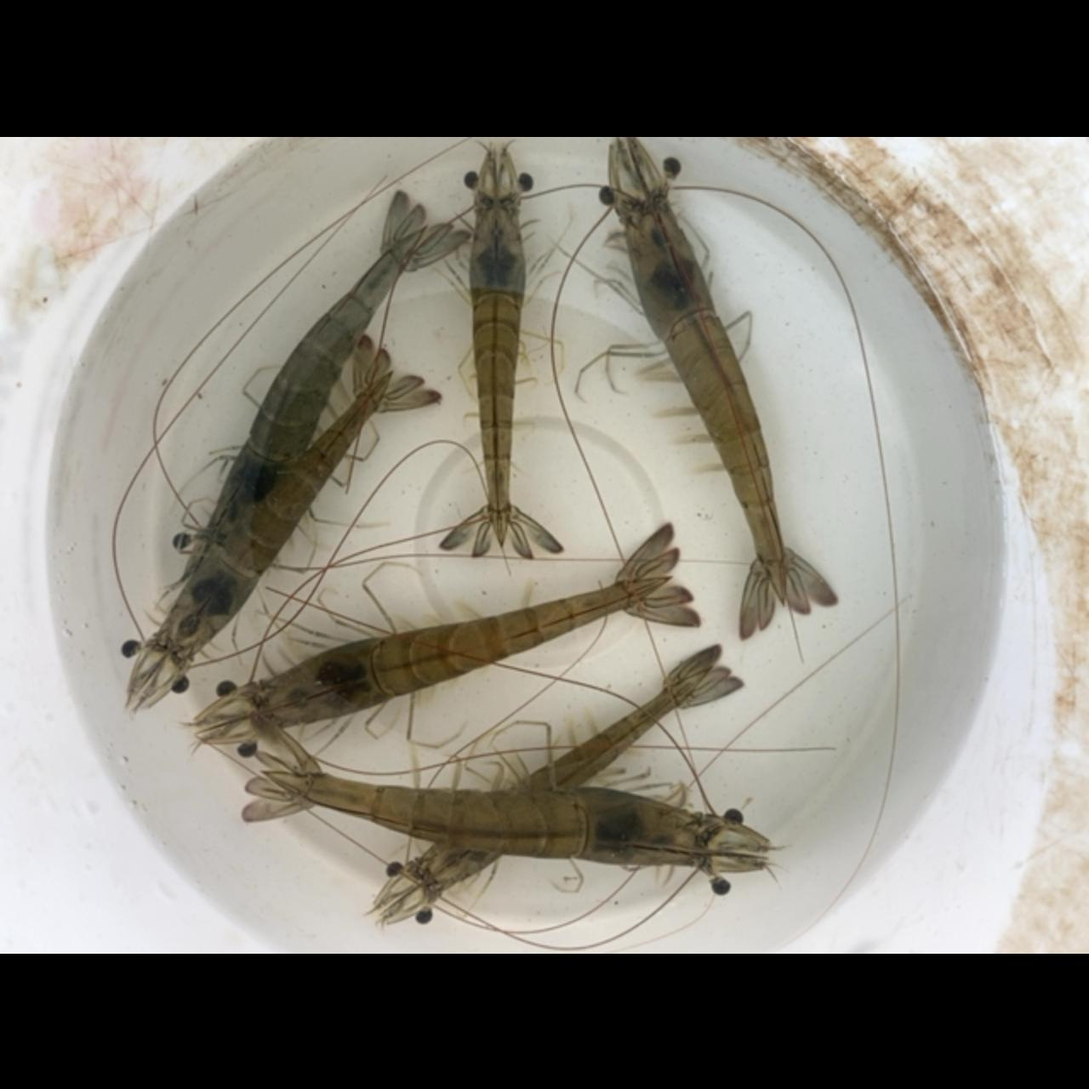top_shrimp: (208, 220, 426, 545), (158, 366, 397, 661), (415, 664, 712, 896), (622, 198, 785, 609), (255, 576, 677, 730), (259, 769, 710, 867), (468, 195, 527, 547)
